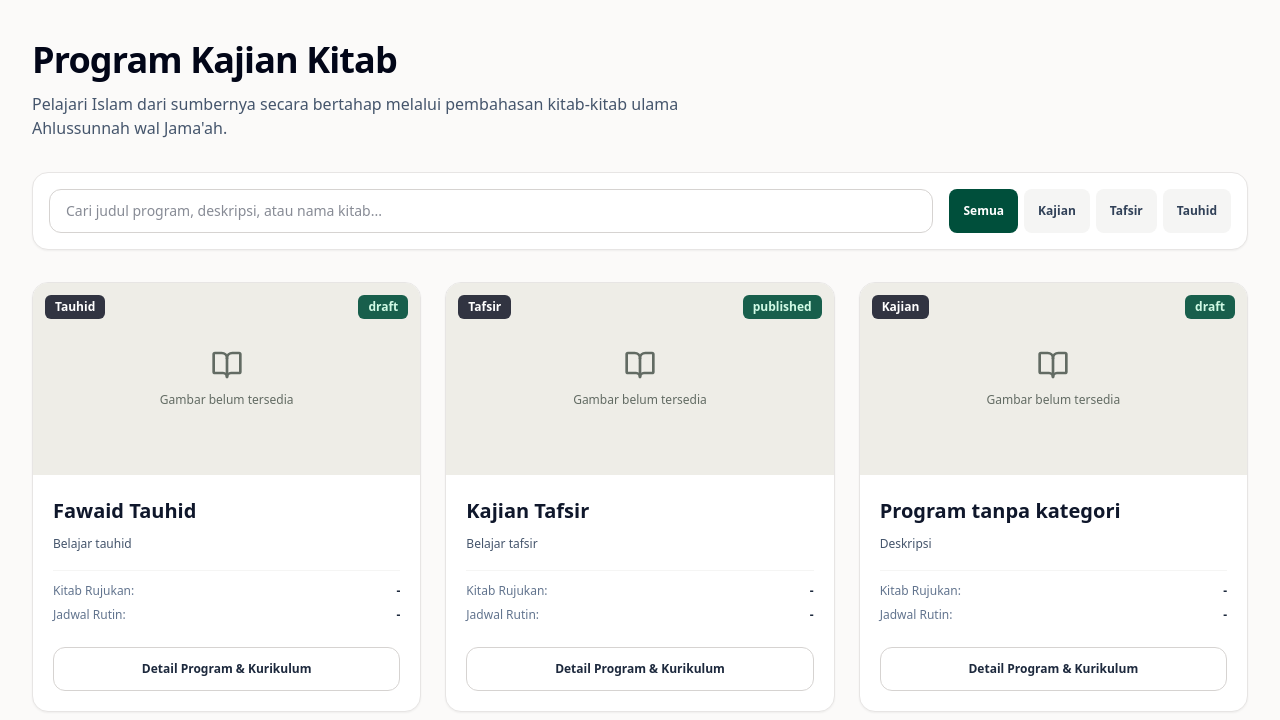
Test: Program categories across public and admin views › builds filters from actual categories, including Tafsir and uncategorized programs
The width and height of the screenshot is (1280, 720).
Click the button "Tafsir" at {"x": 1126, "y": 211}, box [1096,189,1157,233]
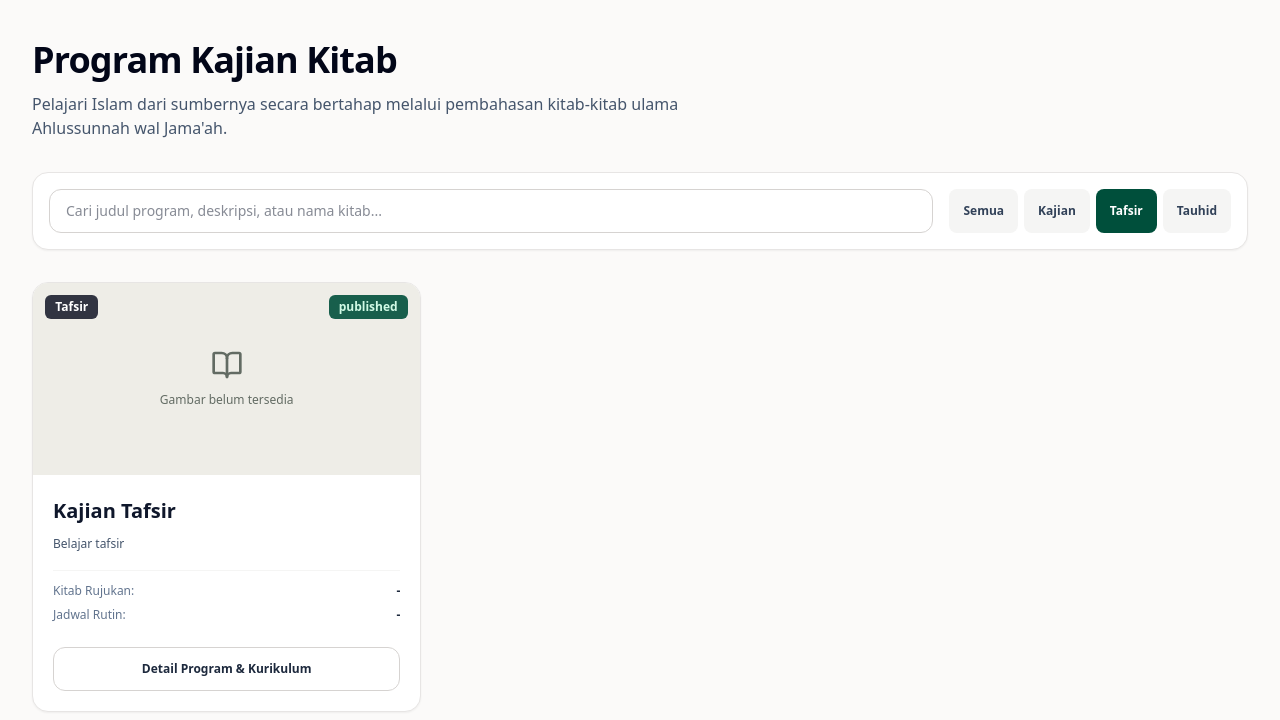
Expected: the heading "Kajian Tafsir" is shown, [53,497,176,524]
Result: the heading "Fawaid Tauhid" is gone
Click the button "Kajian" at {"x": 1057, "y": 211}, box [1024,189,1090,233]
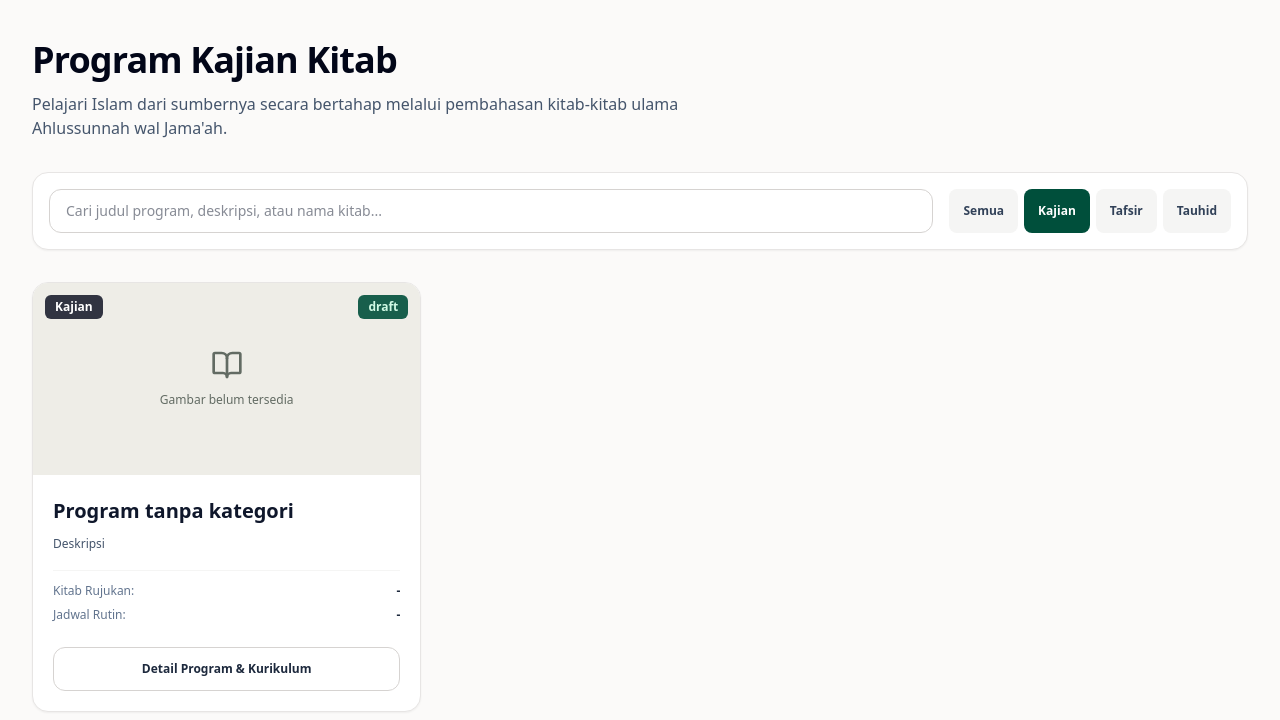
Result: the heading "Program tanpa kategori" is shown at [53,497,294,524]
Click the button "Semua" at {"x": 984, "y": 211}, box [950,189,1018,233]
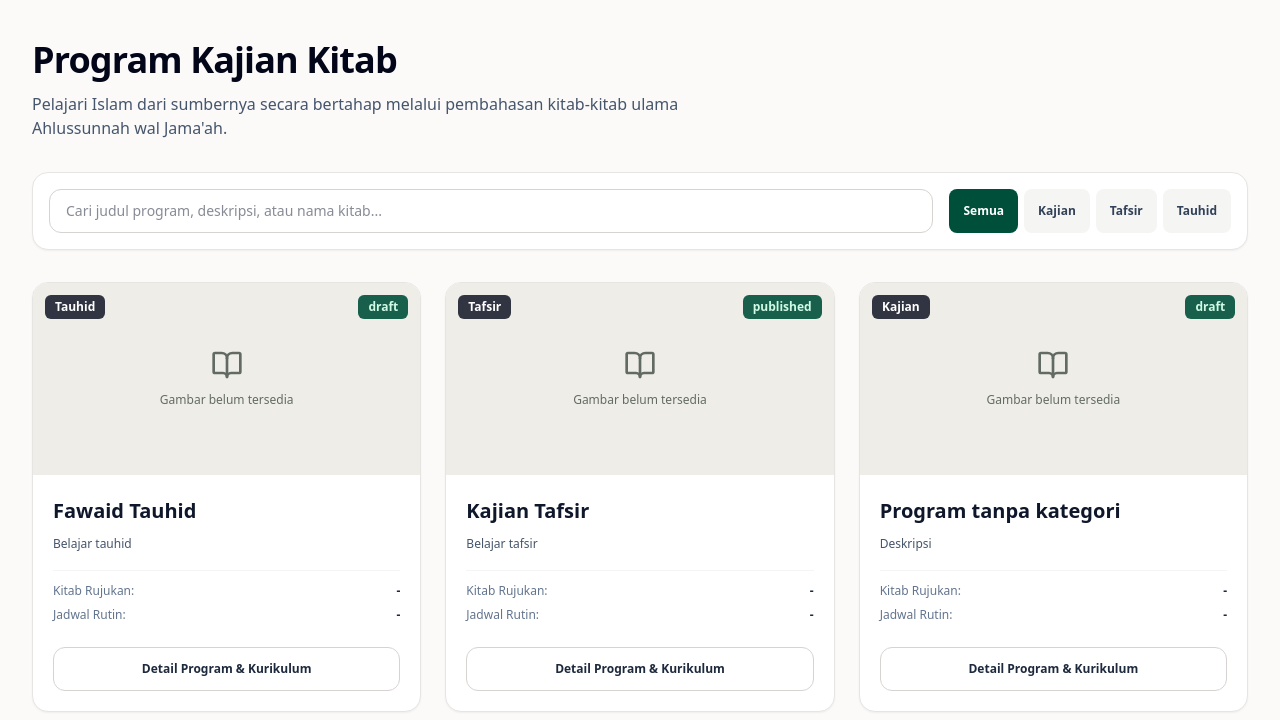
Result: the heading "Fawaid Tauhid" is shown at [53,497,196,524]
